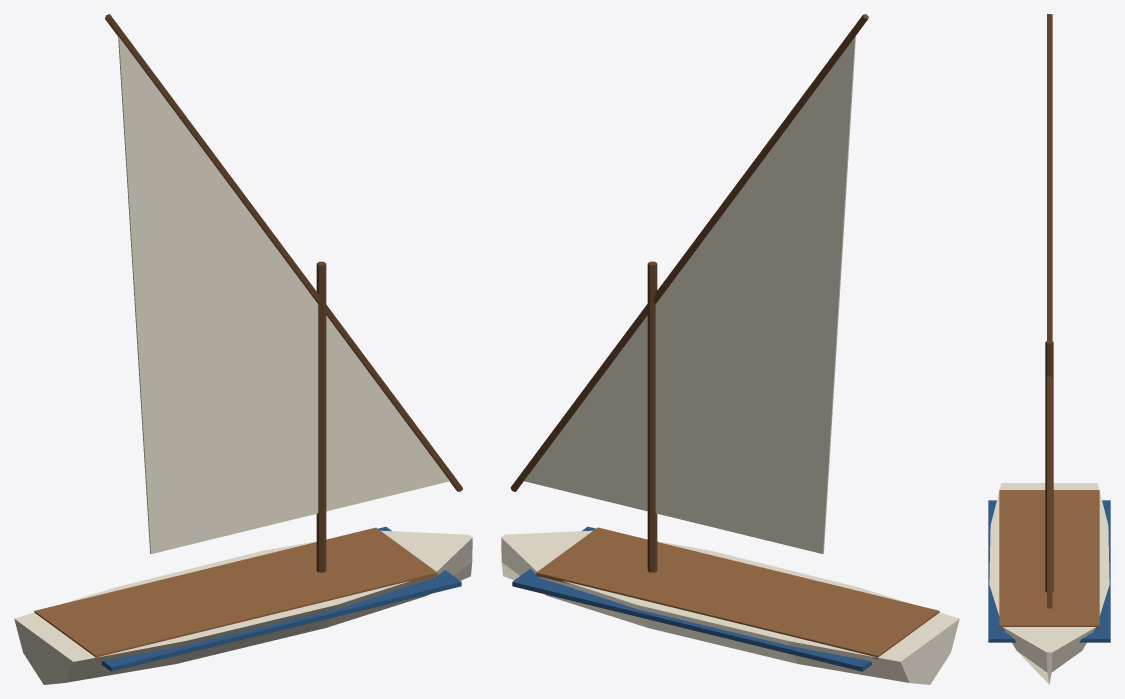
File: felucca.glb
The picture shows the model from 3 angles, left to right: view 1: azimuth 30°, elevation 25°; view 2: azimuth 150°, elevation 25°; view 3: azimuth 270°, elevation 25°; orthographic projection. The views are drawn at different scales.
Parts seen in each view (by area): view 1: felucca; view 2: felucca; view 3: felucca.
Part boxes in pixels (left/top/right/bottom): felucca: left=14, top=14, right=472, bottom=684; felucca: left=501, top=14, right=959, bottom=684; felucca: left=988, top=14, right=1110, bottom=684.
Size of the model in its own units: 8 by 11.83 by 2.45.
